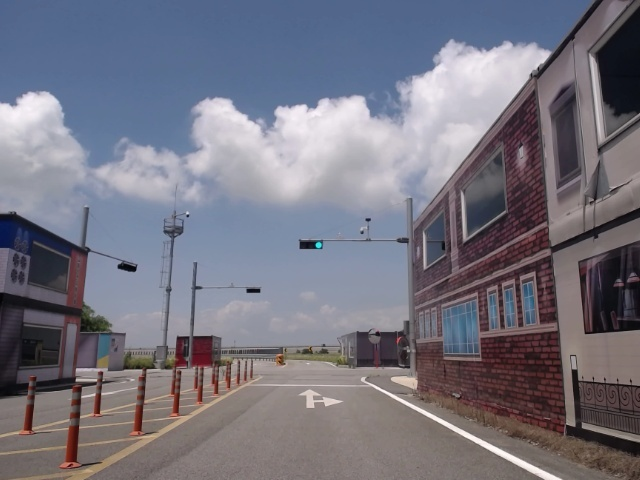green_3: (300, 241, 324, 249)
